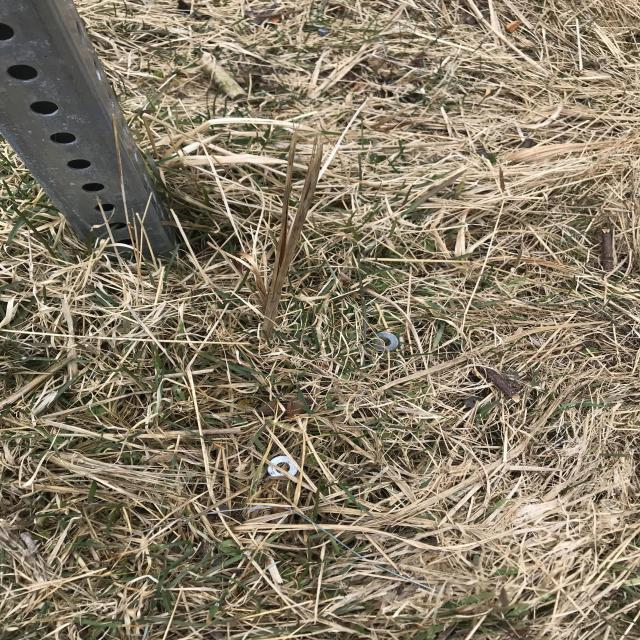litter: (260, 450, 299, 484), (375, 328, 405, 357)
